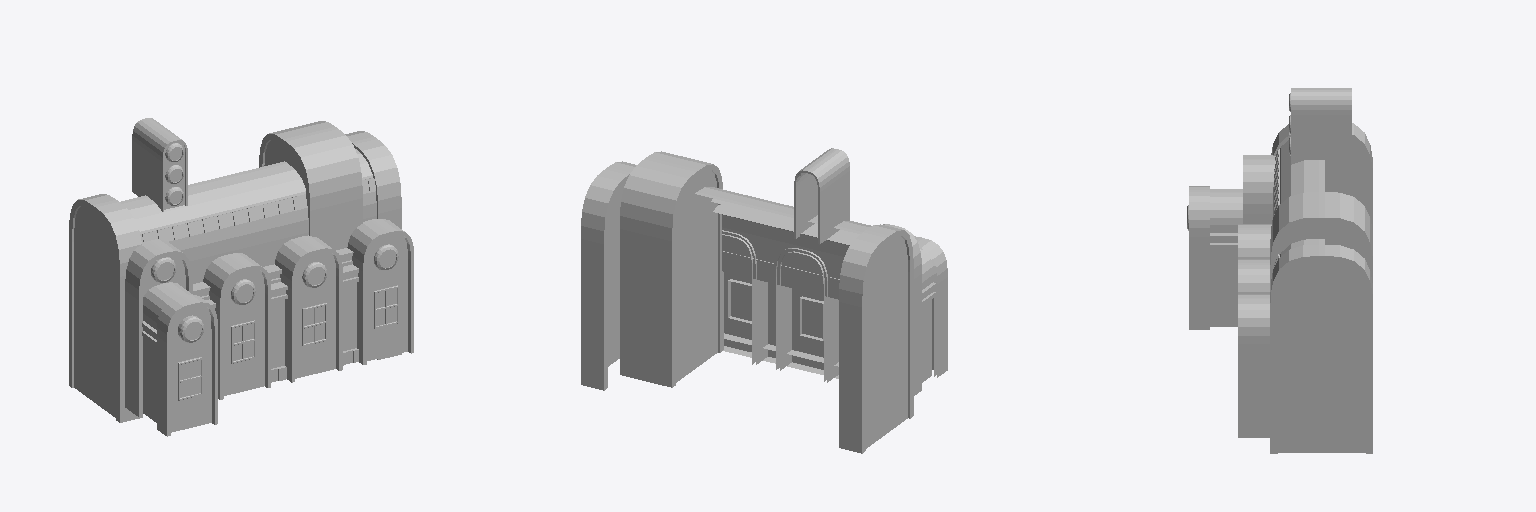
Rendered from Building_3.obj.
3 views of the same model, side by side, from view 1: azimuth 30°, elevation 25°; view 2: azimuth 150°, elevation 25°; view 3: azimuth 270°, elevation 25° (orthographic).
Visible parts, largest first — view 1: Roofs Building_3 Large_Roof, Building_3 Walls Wall_9, Building_3 Roof_Frames Roof_Frame_3, Building_3 Roof_Frames Roof_Frame_2, Building_3 Roof_Frames Frame_5, Building_3 Walls Wall_4, Building_3 Walls Wall_6, Building_3 Walls Wall_5, Building_3 Walls Wall_7, Building_3 Roof_Frames Frame_2, Building_3 Roof_Frames Frame_4, Building_3 Roof_Frames Frame_3 (+14 smaller); view 2: Building_3 Roof_Frames Roof_Frame_3, Building_3 Walls Wall_9, Roofs Building_3 Large_Roof, Building_3 Walls Wall_11, Building_3 Roof_Frames Roof_Frame_2, Building_3 Roof_Frames Roof_Frame_1, Building_3 Wall_1 Walls, Building_3 Roof_Frames Roof_Frame_4, Building_3 Frame_1 Roof_Frames, Building_3 Walls Wall_10, Building_3 Roof_Frames Frame_4, Building_3 Decorations Grill_1 (+4 smaller); view 3: Building_3 Walls Wall_10, Building_3 Roof_Frames Roof_Frame_4, Building_3 Roof_Frames Frame_3, Building_3 Roof_Frames Roof_Frame_1, Building_3 Roof_Frames Roof_Frame_3, Building_3 Roof_Frames Frame_4, Building_3 Walls Wall_2, Building_3 Roof_Frames Frame_5, Roofs Building_3 Large_Roof, Building_3 Walls Wall_12, Building_3 Walls Wall_9, Small_Roof Roofs Building_3 (+3 smaller).
Boxes of the visible parts, x1=… form: Roofs Building_3 Large_Roof: x1=120, y1=149, x2=376, y2=283; Building_3 Walls Wall_9: x1=74, y1=206, x2=115, y2=417; Building_3 Roof_Frames Roof_Frame_3: x1=259, y1=121, x2=362, y2=250; Building_3 Roof_Frames Roof_Frame_2: x1=69, y1=194, x2=142, y2=422; Building_3 Roof_Frames Frame_5: x1=125, y1=239, x2=192, y2=416; Building_3 Walls Wall_4: x1=367, y1=235, x2=407, y2=360; Building_3 Walls Wall_6: x1=224, y1=270, x2=264, y2=395; Building_3 Walls Wall_5: x1=295, y1=252, x2=335, y2=378; Building_3 Walls Wall_7: x1=171, y1=306, x2=211, y2=432; Building_3 Roof_Frames Frame_2: x1=275, y1=235, x2=342, y2=382; Building_3 Roof_Frames Frame_4: x1=157, y1=295, x2=217, y2=436; Building_3 Roof_Frames Frame_3: x1=347, y1=219, x2=413, y2=364; Building_3 Roof_Frames Roof_Frame_3: x1=620, y1=151, x2=723, y2=387; Building_3 Walls Wall_9: x1=866, y1=237, x2=907, y2=448; Roofs Building_3 Large_Roof: x1=695, y1=187, x2=871, y2=299; Building_3 Walls Wall_11: x1=676, y1=171, x2=717, y2=382; Building_3 Roof_Frames Roof_Frame_2: x1=839, y1=224, x2=913, y2=453; Building_3 Roof_Frames Roof_Frame_1: x1=581, y1=161, x2=635, y2=390; Building_3 Wall_1 Walls: x1=724, y1=272, x2=823, y2=369; Building_3 Roof_Frames Roof_Frame_4: x1=794, y1=148, x2=849, y2=244; Building_3 Frame_1 Roof_Frames: x1=776, y1=248, x2=838, y2=382; Building_3 Walls Wall_10: x1=608, y1=183, x2=625, y2=366; Building_3 Roof_Frames Frame_4: x1=914, y1=236, x2=947, y2=377; Building_3 Decorations Grill_1: x1=711, y1=199, x2=859, y2=244; Building_3 Walls Wall_10: x1=1278, y1=262, x2=1365, y2=452; Building_3 Roof_Frames Roof_Frame_4: x1=1291, y1=88, x2=1351, y2=166; Building_3 Roof_Frames Frame_3: x1=1238, y1=294, x2=1269, y2=437; Building_3 Roof_Frames Roof_Frame_1: x1=1270, y1=245, x2=1372, y2=453; Building_3 Roof_Frames Roof_Frame_3: x1=1270, y1=192, x2=1372, y2=291; Building_3 Roof_Frames Frame_4: x1=1189, y1=186, x2=1209, y2=329; Building_3 Walls Wall_2: x1=1210, y1=248, x2=1237, y2=326; Building_3 Roof_Frames Frame_5: x1=1243, y1=155, x2=1275, y2=223; Roofs Building_3 Large_Roof: x1=1273, y1=140, x2=1324, y2=256; Building_3 Walls Wall_12: x1=1278, y1=223, x2=1365, y2=259; Building_3 Walls Wall_9: x1=1325, y1=142, x2=1365, y2=207; Small_Roof Roofs Building_3: x1=1210, y1=189, x2=1242, y2=232.
Size of the model in its own units: 23.65 by 20.76 by 13.52.